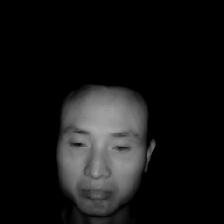sad: (51, 77, 148, 217)
